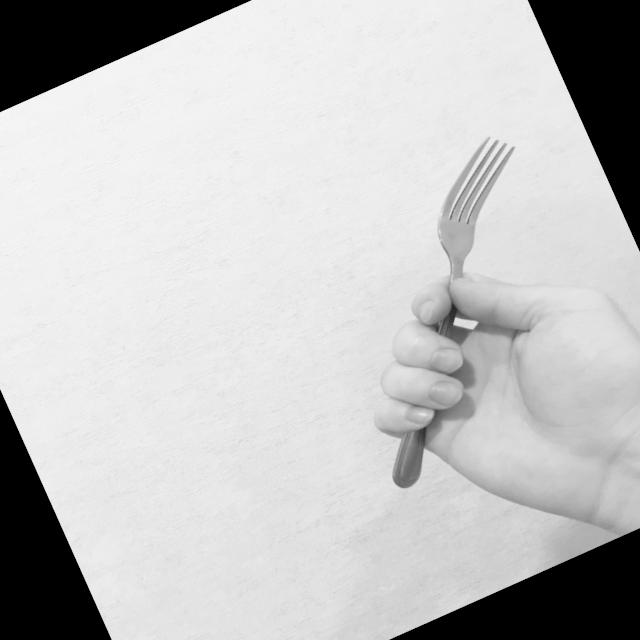fork: (279, 128, 626, 496)
